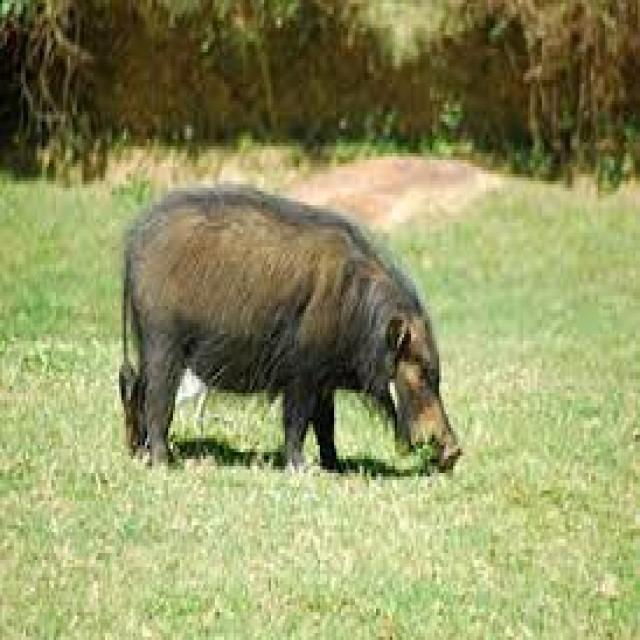boar: (87, 126, 483, 547)
